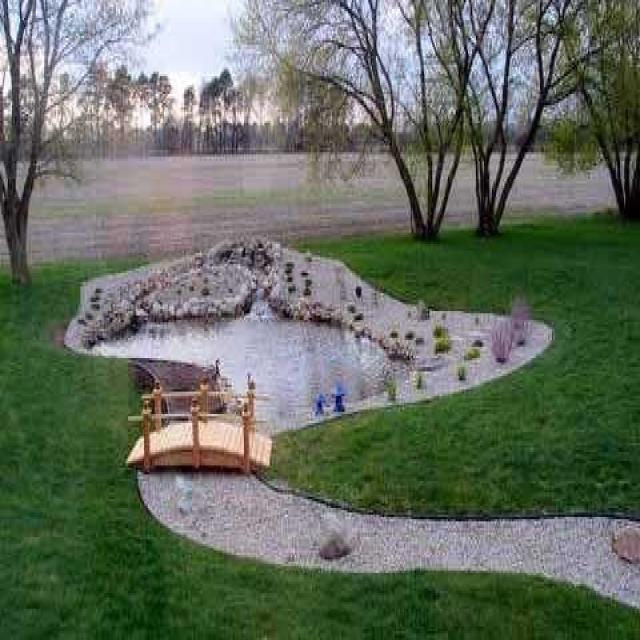Ponds: (65, 237, 555, 432)
